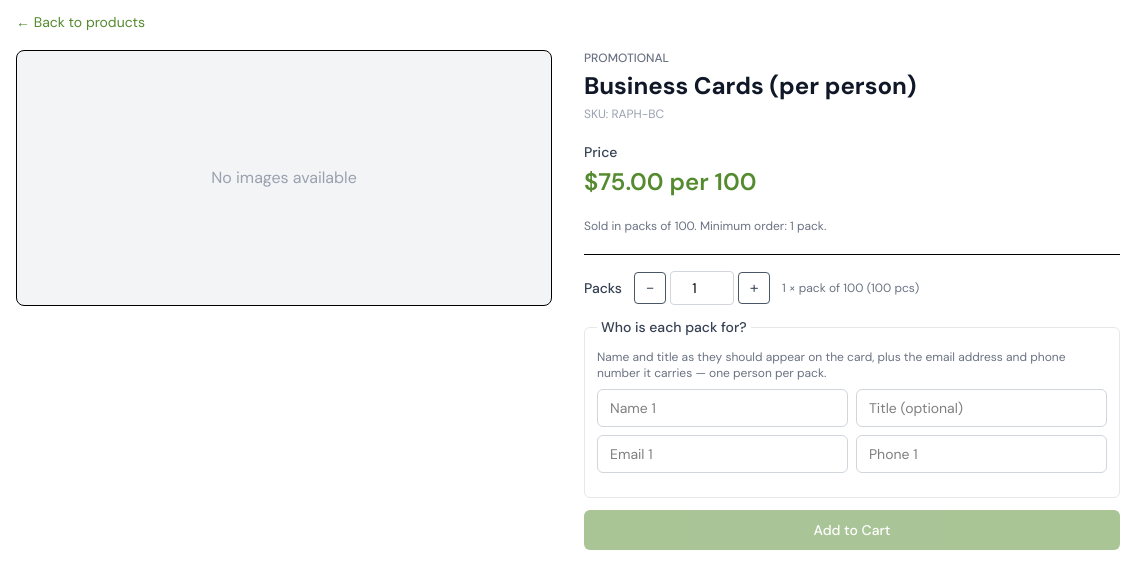
Test: PortalProductDetailPage — recipients need email and phone › accepts any non-empty phone — formats vary
Expected: the heading "Business Cards (per person)" is shown, [584,70,917,102]
Step 1. Type "Alex Rivera" into the field labelled "Name 1" → (722, 408), box [597,389,848,427]
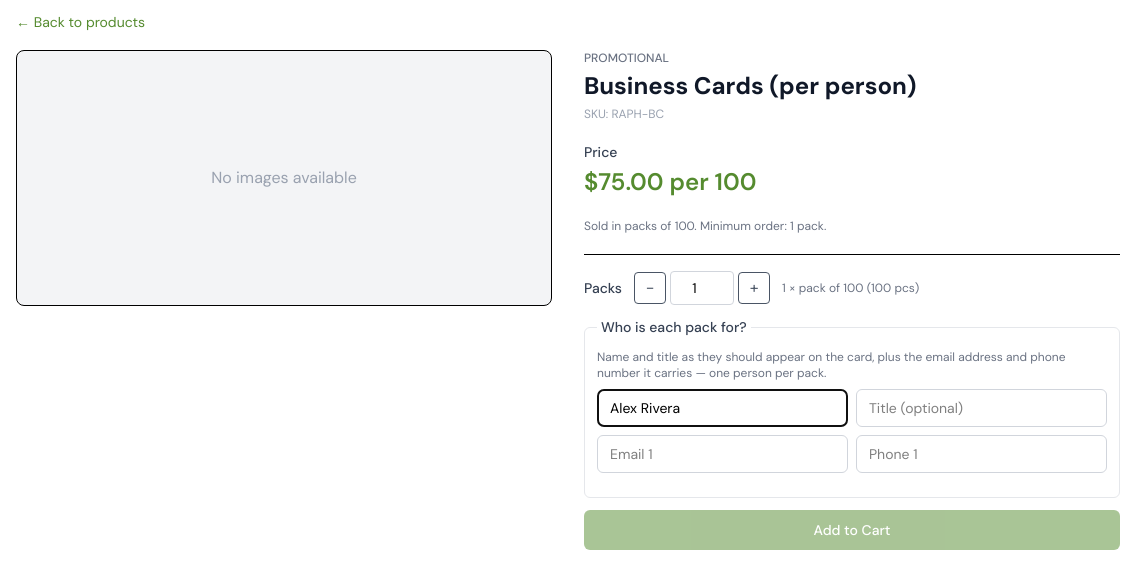
Step 2. Type "alex@raphaelkc.com" into the field labelled "Email 1" → (722, 454), box [597,435,848,473]
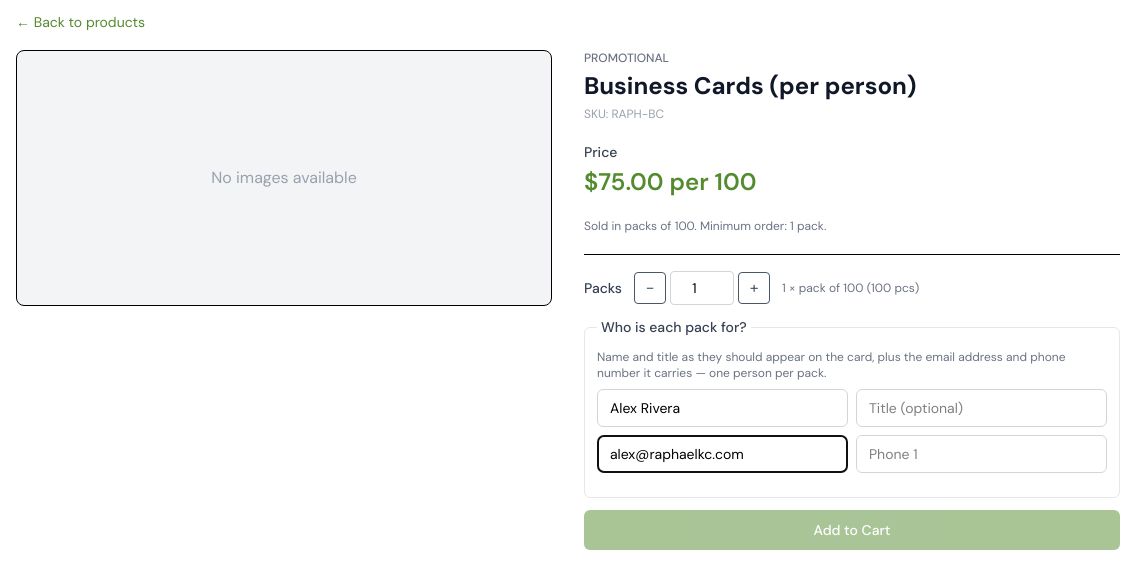
Step 3. Type "+44 20 7946 0958 ext. 12" into the field labelled "Phone 1" → (982, 454), box [856,435,1107,473]
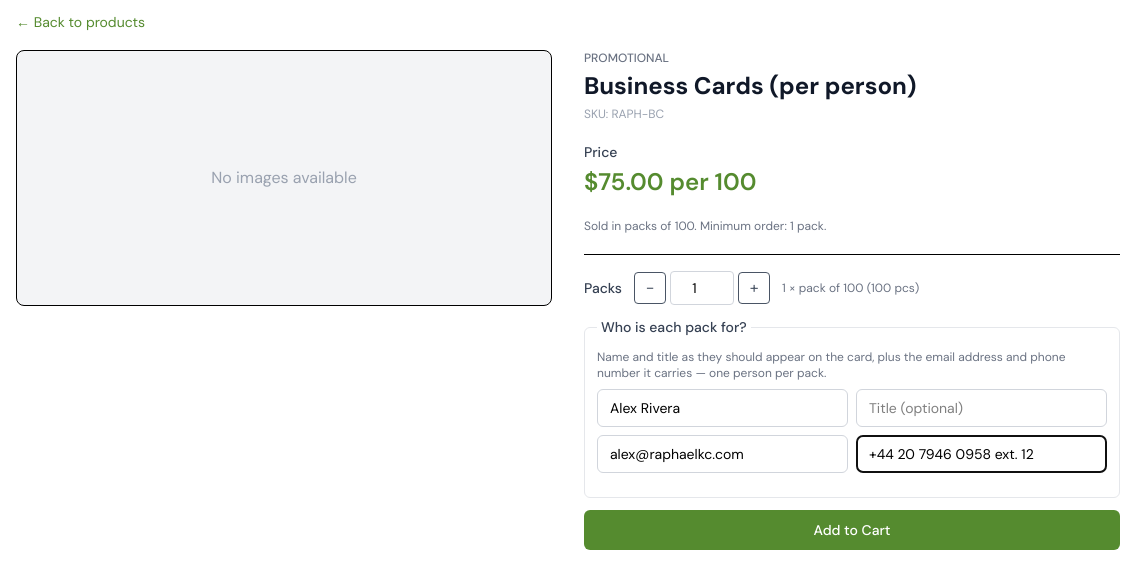
Now the button "Add to Cart" is enabled, box [584,510,1120,550]
